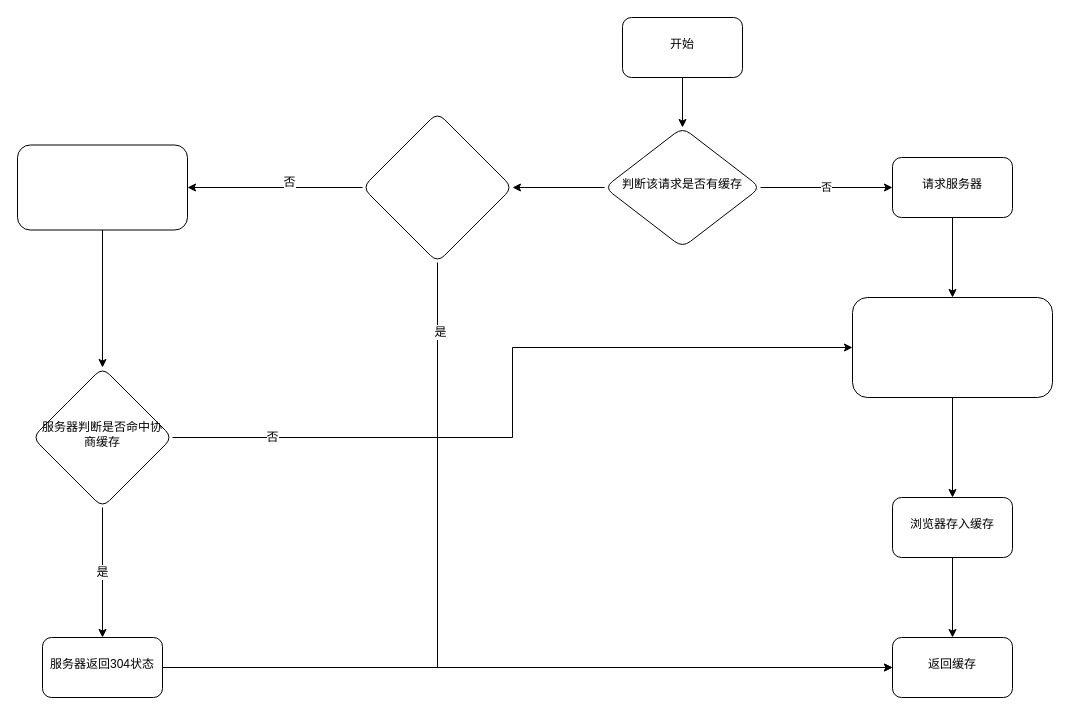
Image size: 1070x715. Some labels were removed from this diagram. Here are the shapes that lost their labels. From the top down, the centre of each, then its label:
At point (102, 187): "浏览器携带请求头 If-Modified-Since 和 If-None-Match 请求服务器".
At point (437, 187): "浏览器根据Cache-Control 或 Expires 判断请求是否命中强缓存".
At point (952, 347): "服务器响应请求 浏览器记录响应头及响应体内容 Cache-Control、Expires Last-modified、Etag".
